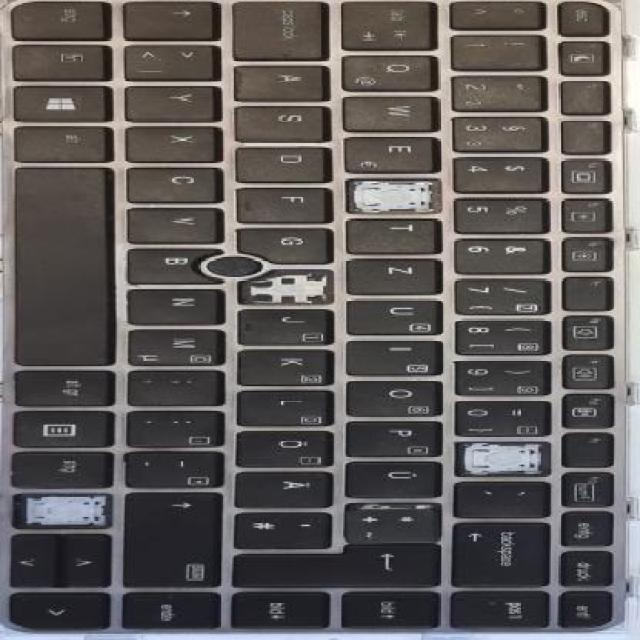Keyboard problems: (14, 494, 111, 528), (348, 178, 440, 212), (240, 269, 332, 303), (455, 442, 549, 475)
